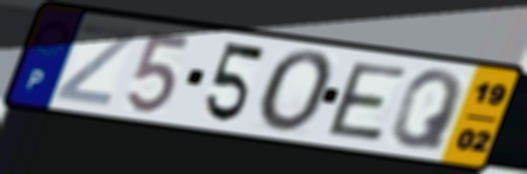5: (123, 28, 197, 116), (202, 39, 267, 124)
E: (325, 60, 412, 145)
O: (254, 47, 339, 137)
Q: (388, 67, 467, 154)
Z: (51, 21, 141, 109)
